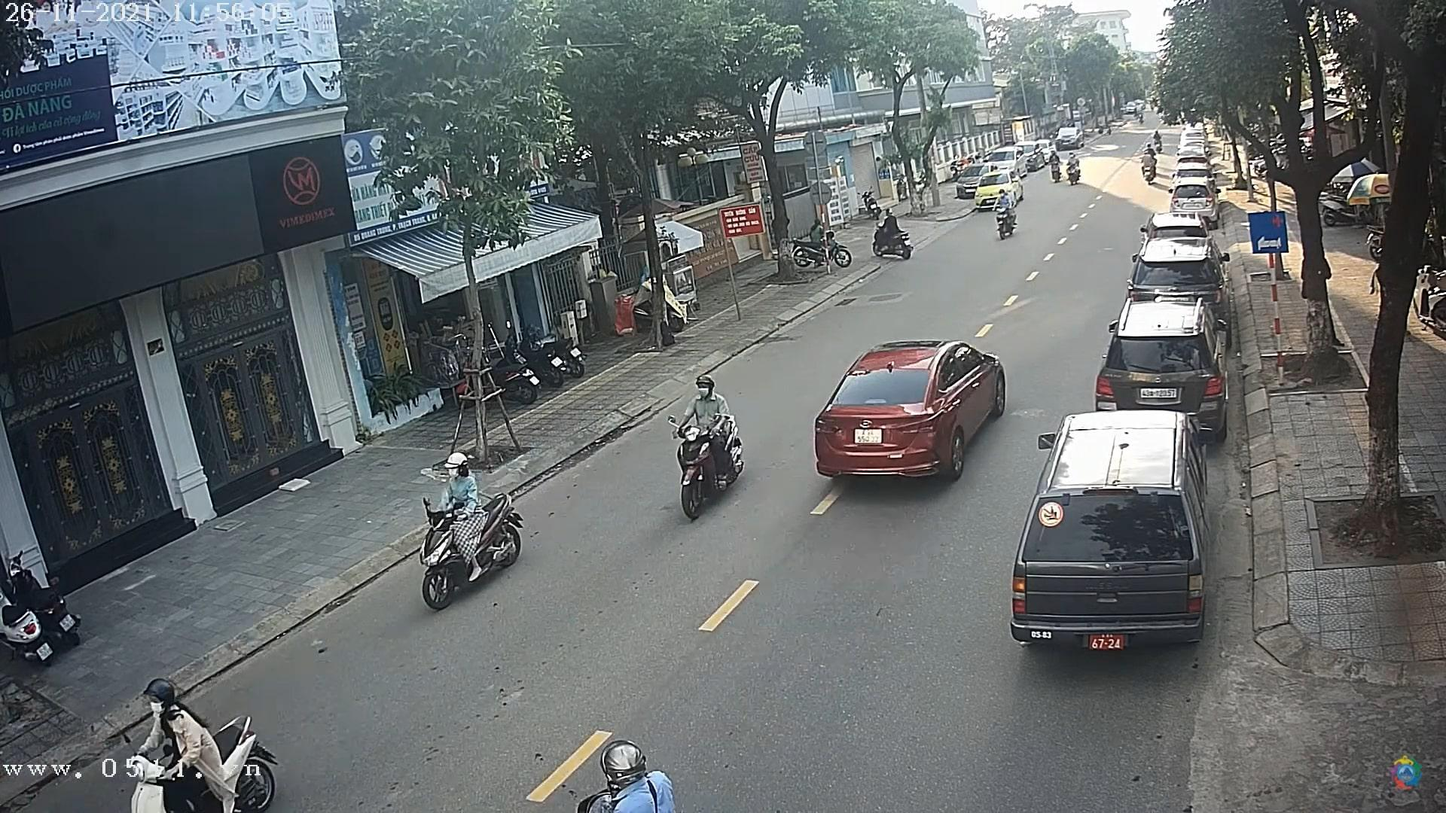motorbike: (416, 495, 530, 609), (671, 420, 748, 524), (995, 209, 1020, 239)
